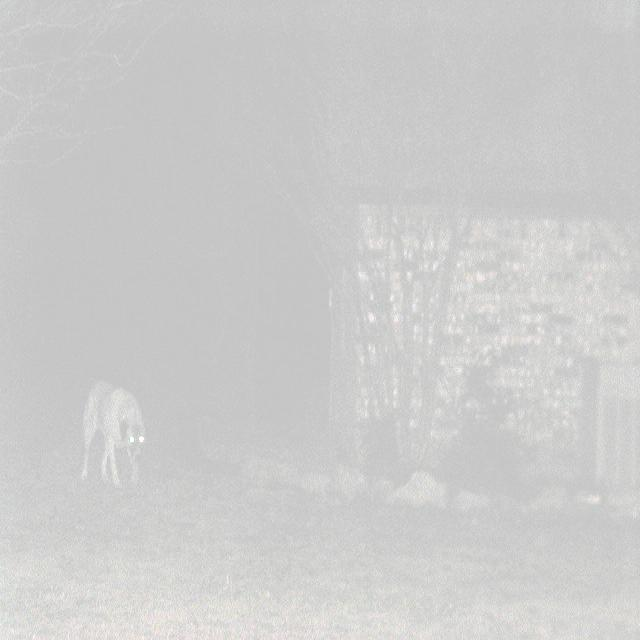Dog: (94, 368, 340, 613)
